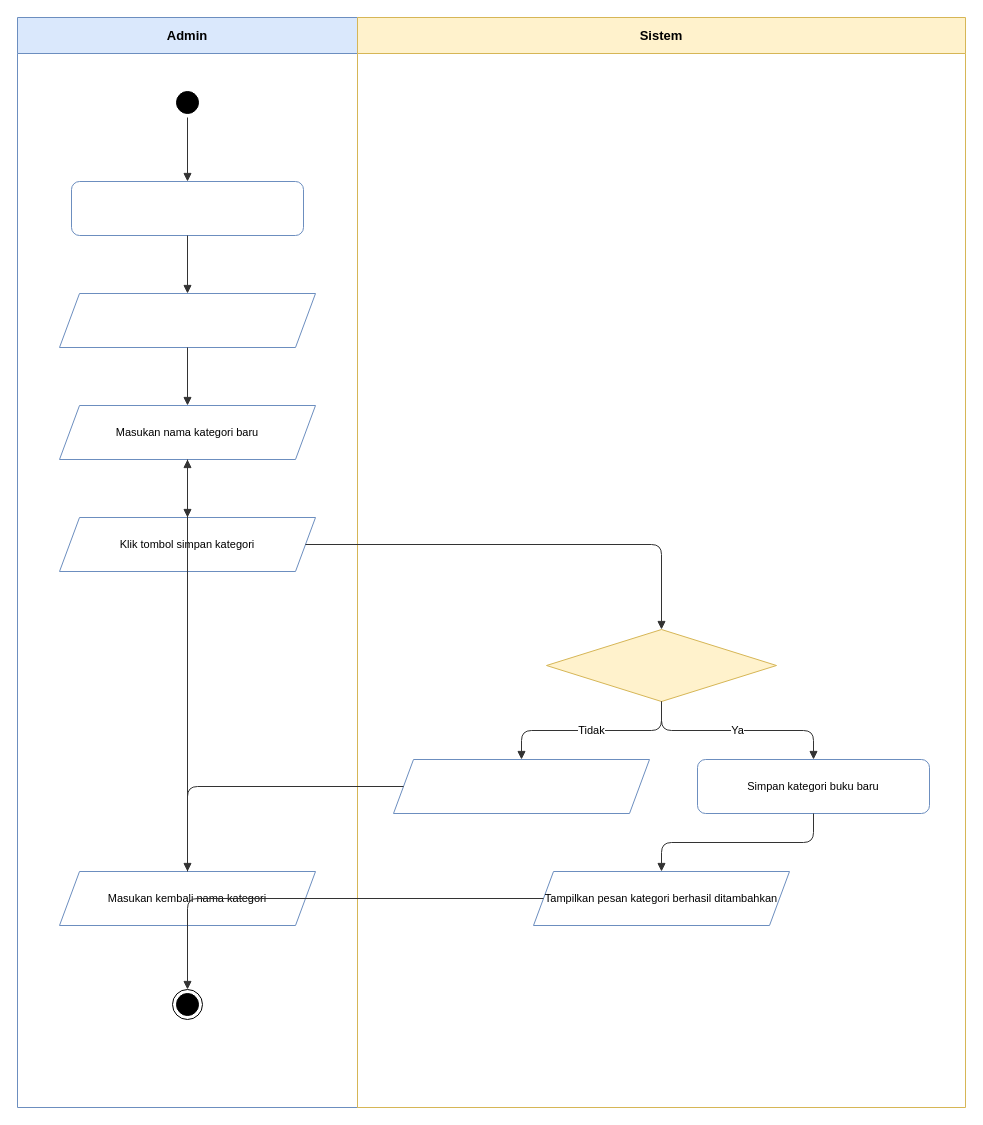
Image size: 983x1125. Some labels were removed from this diagram. Each missing label, with the centre of its shape:
"Apakah nama kategori sudah diisi?" goes at (x=661, y=665).
"Buka menu kategori buku" goes at (x=187, y=208).
"Klik tombol tambah kategori" goes at (x=187, y=320).
"Tampilkan peringatan nama kategori wajib diisi" goes at (x=521, y=786).
